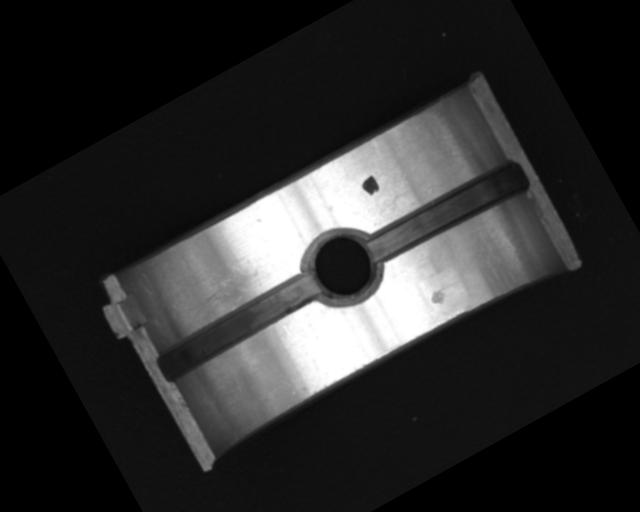blot: (358, 173, 382, 199)
bruise: (428, 286, 449, 307)
gap: (150, 267, 325, 386), (362, 154, 531, 269)
hole: (294, 217, 393, 315)
nick: (282, 319, 320, 375)
scratch: (178, 252, 268, 327)
